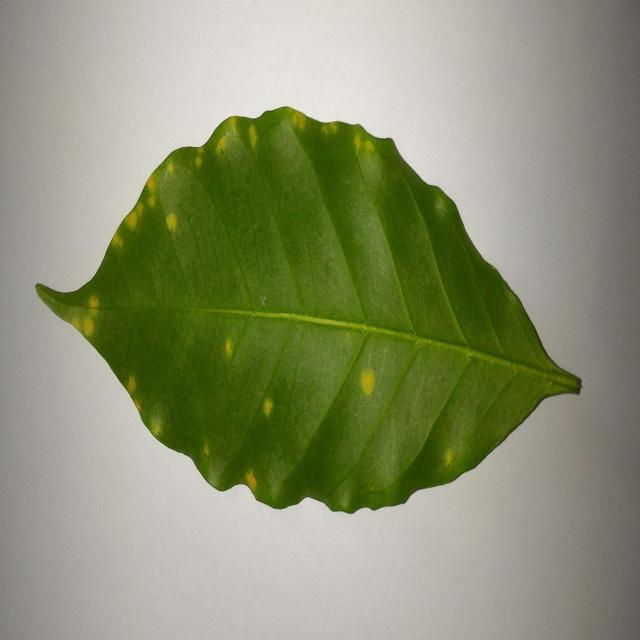rust: (68, 282, 102, 350), (359, 353, 382, 404), (256, 388, 282, 429), (242, 468, 263, 501)
